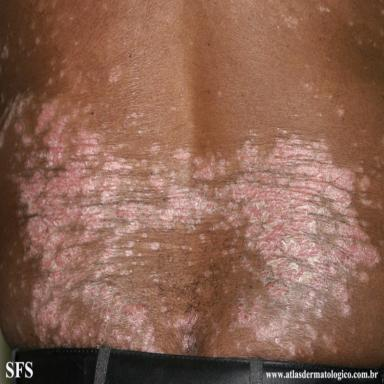Psoriasis: (0, 87, 384, 358), (159, 308, 199, 353), (109, 65, 121, 82), (284, 16, 298, 28), (335, 103, 345, 118)
